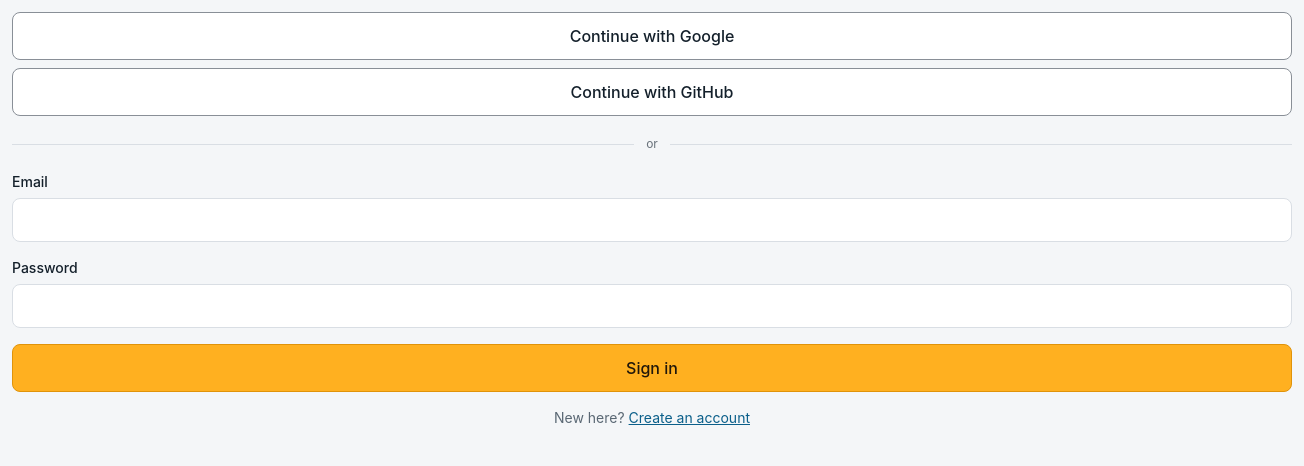
AuthForm › local validation › rejects an address with no @ before making a request
Type "not-an-email" into the field labelled "Email".
click(652, 220); type("not-an-email")  # box x1=12 y1=198 x2=1292 y2=242
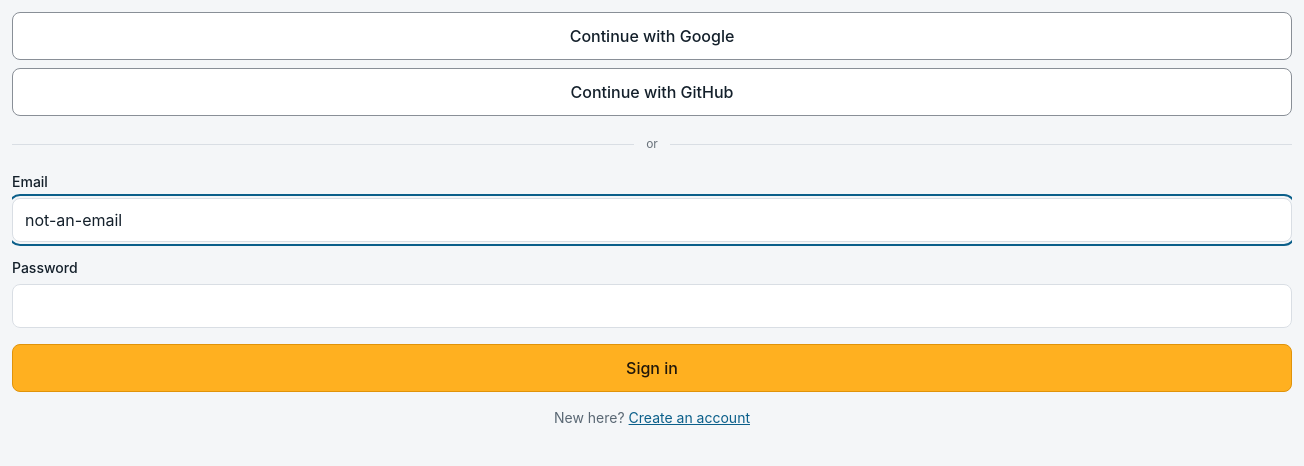
Type "hunter2hunter2" into the password field labelled "Password".
click(652, 306); type("hunter2hunter2")  # box x1=12 y1=284 x2=1292 y2=328
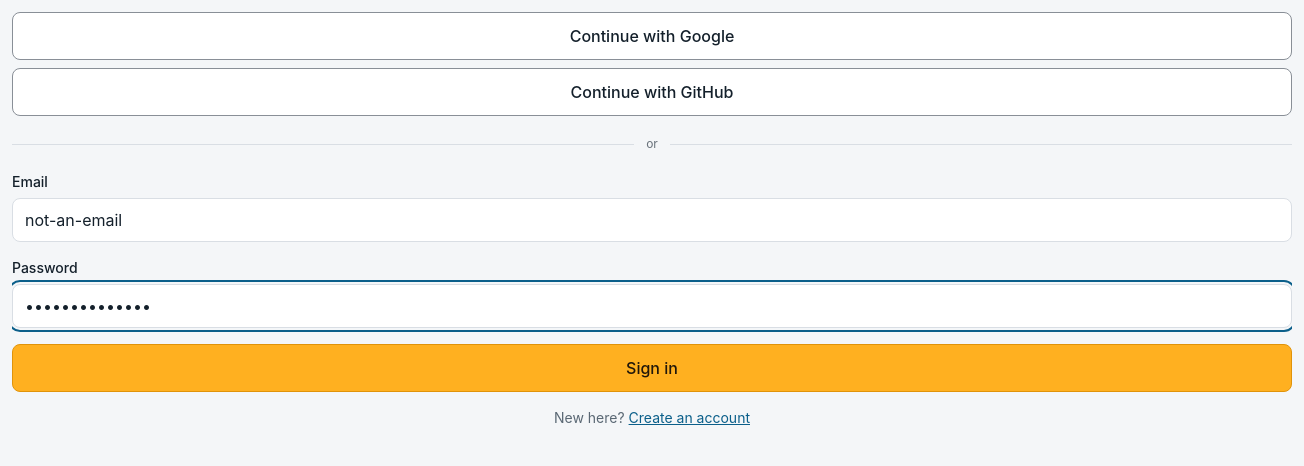
Click the button "Sign in".
click(652, 368)  # box x1=12 y1=344 x2=1292 y2=392
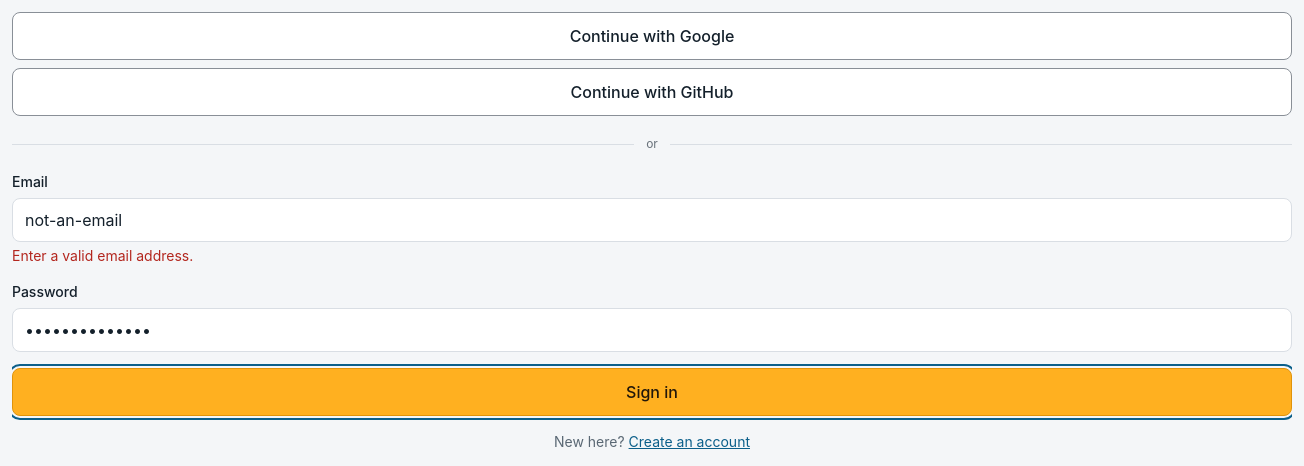
Result: the text "Enter a valid email address." is shown at x1=12 y1=247 x2=193 y2=264
